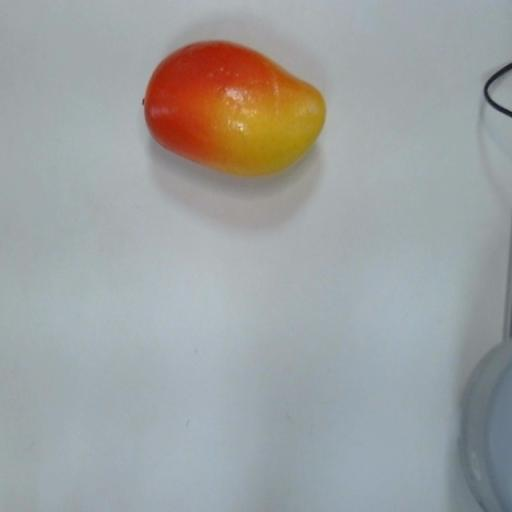Ripe: (136, 20, 333, 206)
